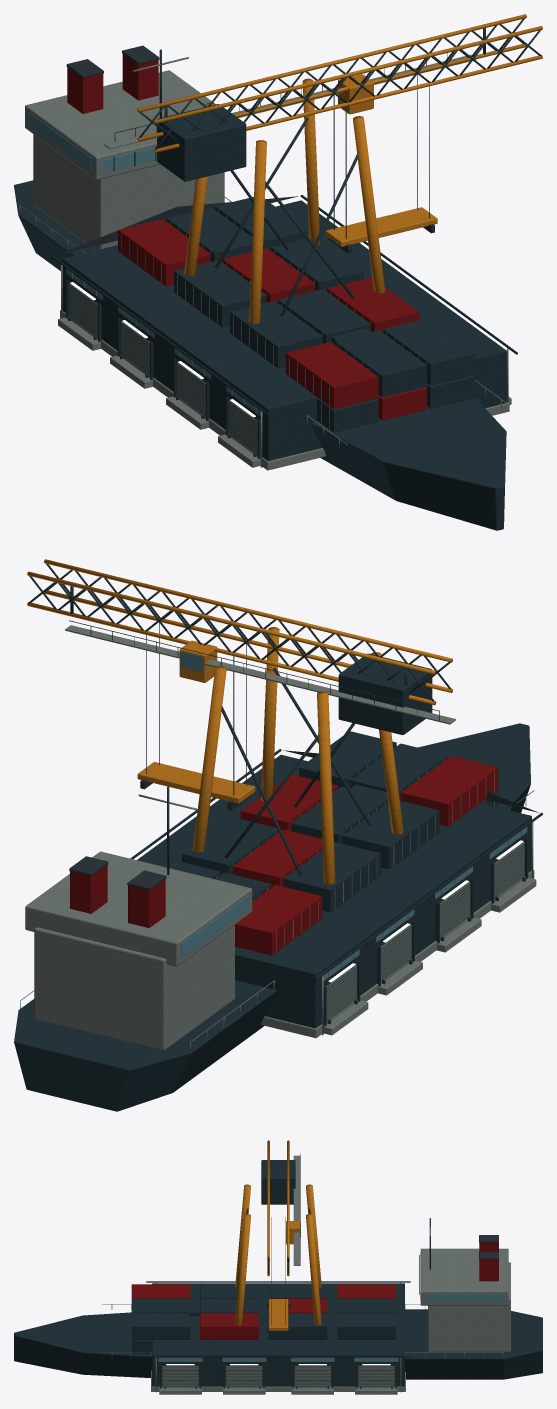
File: harbor-kit.glb
3 views of the same model, one above another, from view 1: azimuth 30°, elevation 25°; view 2: azimuth 150°, elevation 25°; view 3: azimuth 270°, elevation 25° (orthographic). The views are drawn at different scales.
Visible parts, largest first — view 1: PortFreighter_Port_Steel, PortWarehouse_Port_Steel, PortFreighter_Port_Concrete, PortCrane_Port_Safety, PortFreighter_Port_Red, PortCrane_Port_Steel, PortWarehouse_Port_Concrete, PortFreighter_Port_Glass, PortWarehouse_Port_Rubber, PortFreighter_Port_Rubber, PortCrane_Port_Concrete, PortWarehouse_Port_Glass (+1 smaller); view 2: PortFreighter_Port_Steel, PortFreighter_Port_Concrete, PortWarehouse_Port_Steel, PortCrane_Port_Safety, PortFreighter_Port_Red, PortCrane_Port_Steel, PortWarehouse_Port_Concrete, PortCrane_Port_Concrete, PortWarehouse_Port_Rubber, PortFreighter_Port_Glass, PortFreighter_Port_Rubber, PortWarehouse_Port_Glass; view 3: PortFreighter_Port_Steel, PortWarehouse_Port_Steel, PortFreighter_Port_Concrete, PortWarehouse_Port_Concrete, PortFreighter_Port_Red, PortCrane_Port_Safety, PortCrane_Port_Steel, PortWarehouse_Port_Glass, PortWarehouse_Port_Rubber, PortCrane_Port_Concrete, PortFreighter_Port_Glass, PortFreighter_Port_Rubber.
Part boxes in pixels (<box>): PortFreighter_Port_Steel: <box>14,49,506,530</box>; PortWarehouse_Port_Steel: <box>51,195,517,461</box>; PortFreighter_Port_Concrete: <box>19,57,509,448</box>; PortCrane_Port_Safety: <box>137,14,542,323</box>; PortFreighter_Port_Red: <box>67,54,426,420</box>; PortCrane_Port_Steel: <box>114,18,541,315</box>; PortWarehouse_Port_Concrete: <box>58,202,511,470</box>; PortFreighter_Port_Glass: <box>27,112,156,172</box>; PortWarehouse_Port_Rubber: <box>55,196,298,456</box>; PortFreighter_Port_Rubber: <box>66,45,159,78</box>; PortCrane_Port_Concrete: <box>104,54,476,149</box>; PortWarehouse_Port_Glass: <box>66,268,262,416</box>; PortFreighter_Port_Steel: <box>14,723,530,1111</box>; PortFreighter_Port_Concrete: <box>20,759,534,1051</box>; PortWarehouse_Port_Steel: <box>130,749,542,1028</box>; PortCrane_Port_Safety: <box>27,559,452,884</box>; PortFreighter_Port_Red: <box>70,756,498,955</box>; PortCrane_Port_Steel: <box>29,563,452,876</box>; PortWarehouse_Port_Concrete: <box>260,757,536,1038</box>; PortCrane_Port_Concrete: <box>65,625,455,724</box>; PortWarehouse_Port_Rubber: <box>283,750,538,1023</box>; PortFreighter_Port_Glass: <box>181,895,249,957</box>; PortFreighter_Port_Rubber: <box>69,856,166,890</box>; PortWarehouse_Port_Glass: <box>321,826,527,981</box>; PortFreighter_Port_Steel: <box>14,1218,542,1379</box>; PortWarehouse_Port_Steel: <box>146,1281,410,1388</box>; PortFreighter_Port_Concrete: <box>102,1227,510,1357</box>; PortWarehouse_Port_Concrete: <box>151,1282,405,1394</box>; PortFreighter_Port_Red: <box>131,1243,498,1339</box>; PortCrane_Port_Safety: <box>235,1140,321,1330</box>; PortCrane_Port_Steel: <box>237,1153,319,1332</box>; PortWarehouse_Port_Glass: <box>158,1357,398,1361</box>; PortWarehouse_Port_Rubber: <box>159,1365,397,1388</box>; PortCrane_Port_Concrete: <box>293,1155,300,1265</box>; PortFreighter_Port_Glass: <box>420,1253,503,1301</box>; PortFreighter_Port_Rubber: <box>479,1235,498,1259</box>.
Size of the model in its own units: 59.58 by 40.26 by 108.
Materials: 8 (5 with a texture image).
